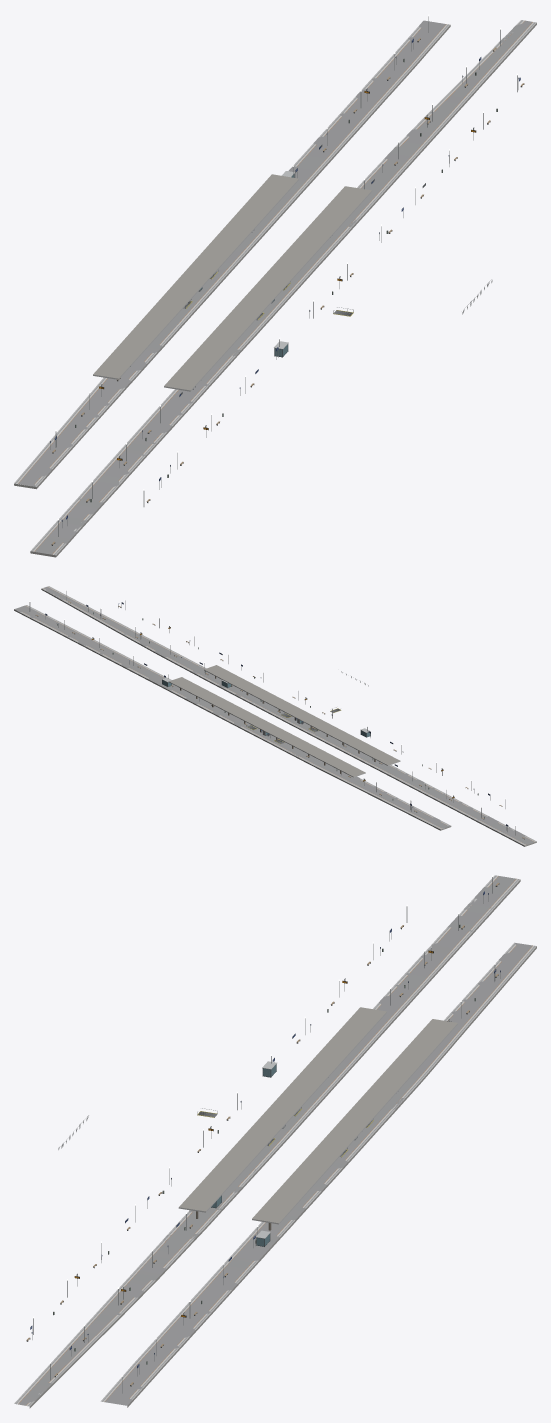
File: stp_altstetten.glb
3 renders of one model, top to bottom at view 1: azimuth 90°, elevation 25°; view 2: azimuth 150°, elevation 25°; view 3: azimuth 270°, elevation 25°, orthographic. The views are drawn at different scales.
Visible parts, largest first — view 1: solid; view 2: solid; view 3: solid.
Part boxes in pixels (box(x1,y1,x2,y2)): solid: box(14, 16, 536, 557); solid: box(14, 586, 536, 846); solid: box(14, 875, 536, 1408).
Bounding box in the file's own units: 345 × 6.6 × 143.
5 materials, 4 textured.
